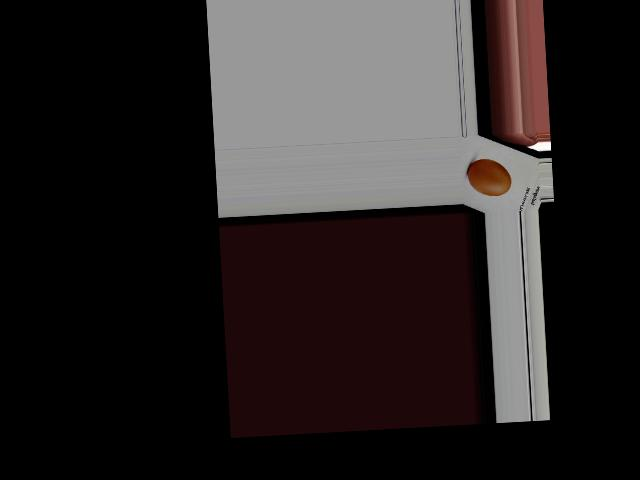egg: (466, 157, 511, 197)
